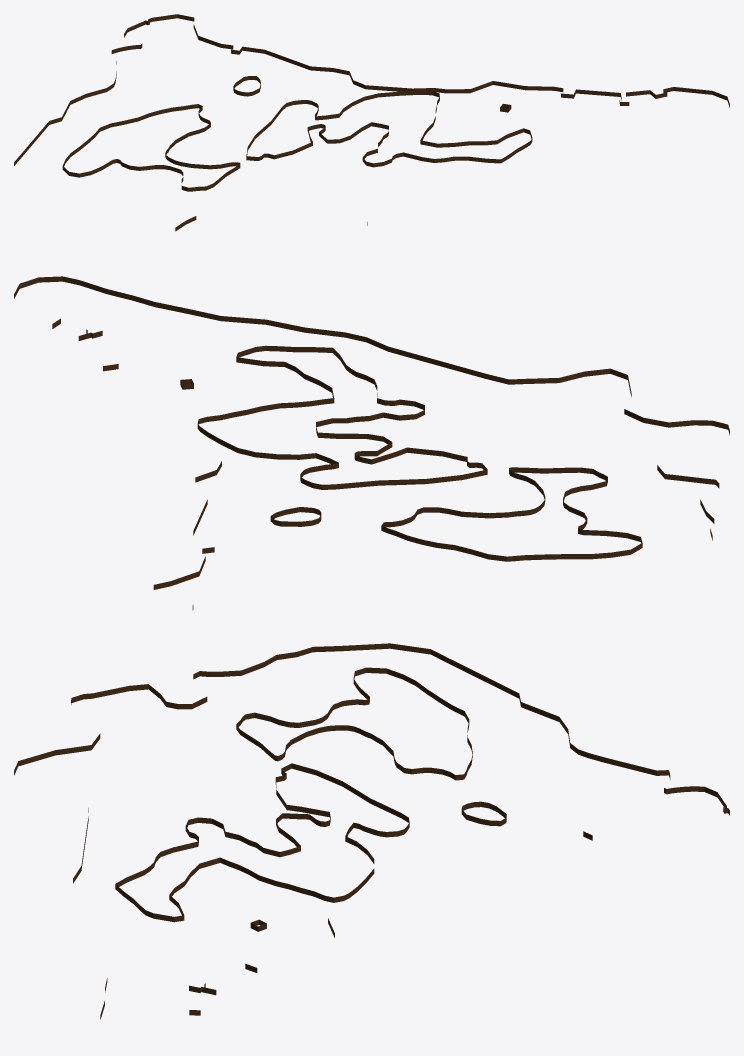
Rendered from geom3_borders.glb.
3 renders of one model, top to bottom at view 1: azimuth 30°, elevation 25°; view 2: azimuth 150°, elevation 25°; view 3: azimuth 270°, elevation 25°, orthographic. The views are drawn at different scales.
Visible parts, largest first — view 1: OutsideBorder; view 2: OutsideBorder; view 3: OutsideBorder.
Boxes of the visible parts, left/top/right/bottom form: OutsideBorder: left=14, top=14, right=729, bottom=231; OutsideBorder: left=14, top=276, right=729, bottom=610; OutsideBorder: left=14, top=643, right=729, bottom=1019.
Size of the model in its own units: 471 by 3.76 by 363.
